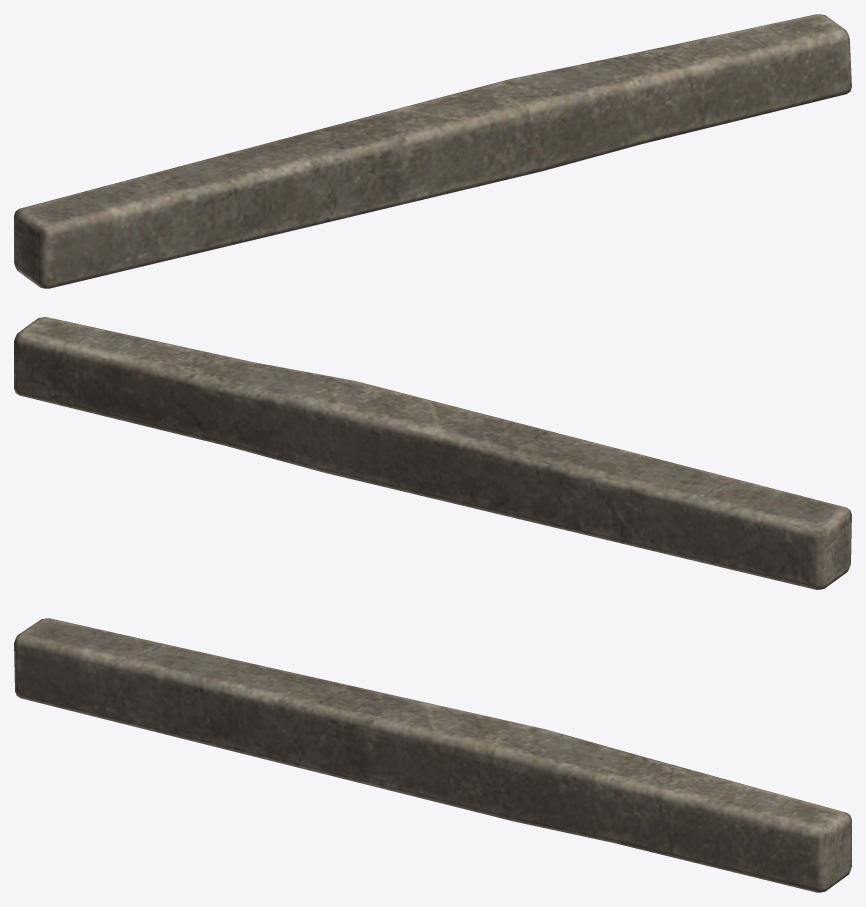
Rendered from Сurbstone_03.fbx.
3 renders of one model, top to bottom at view 1: azimuth 30°, elevation 25°; view 2: azimuth 150°, elevation 25°; view 3: azimuth 330°, elevation 25°, orthographic.
Parts seen in each view (by area): view 1: Сurbstone_03_LOD0; view 2: Сurbstone_03_LOD0; view 3: Сurbstone_03_LOD0.
Boxes of the visible parts, x1,y1,x2,y2 form: Сurbstone_03_LOD0: (14,14,851,288); Сurbstone_03_LOD0: (14,317,851,589); Сurbstone_03_LOD0: (14,618,851,892).
Size of what is drawn, in the model's own units: 200 by 17.12 by 16.17.
